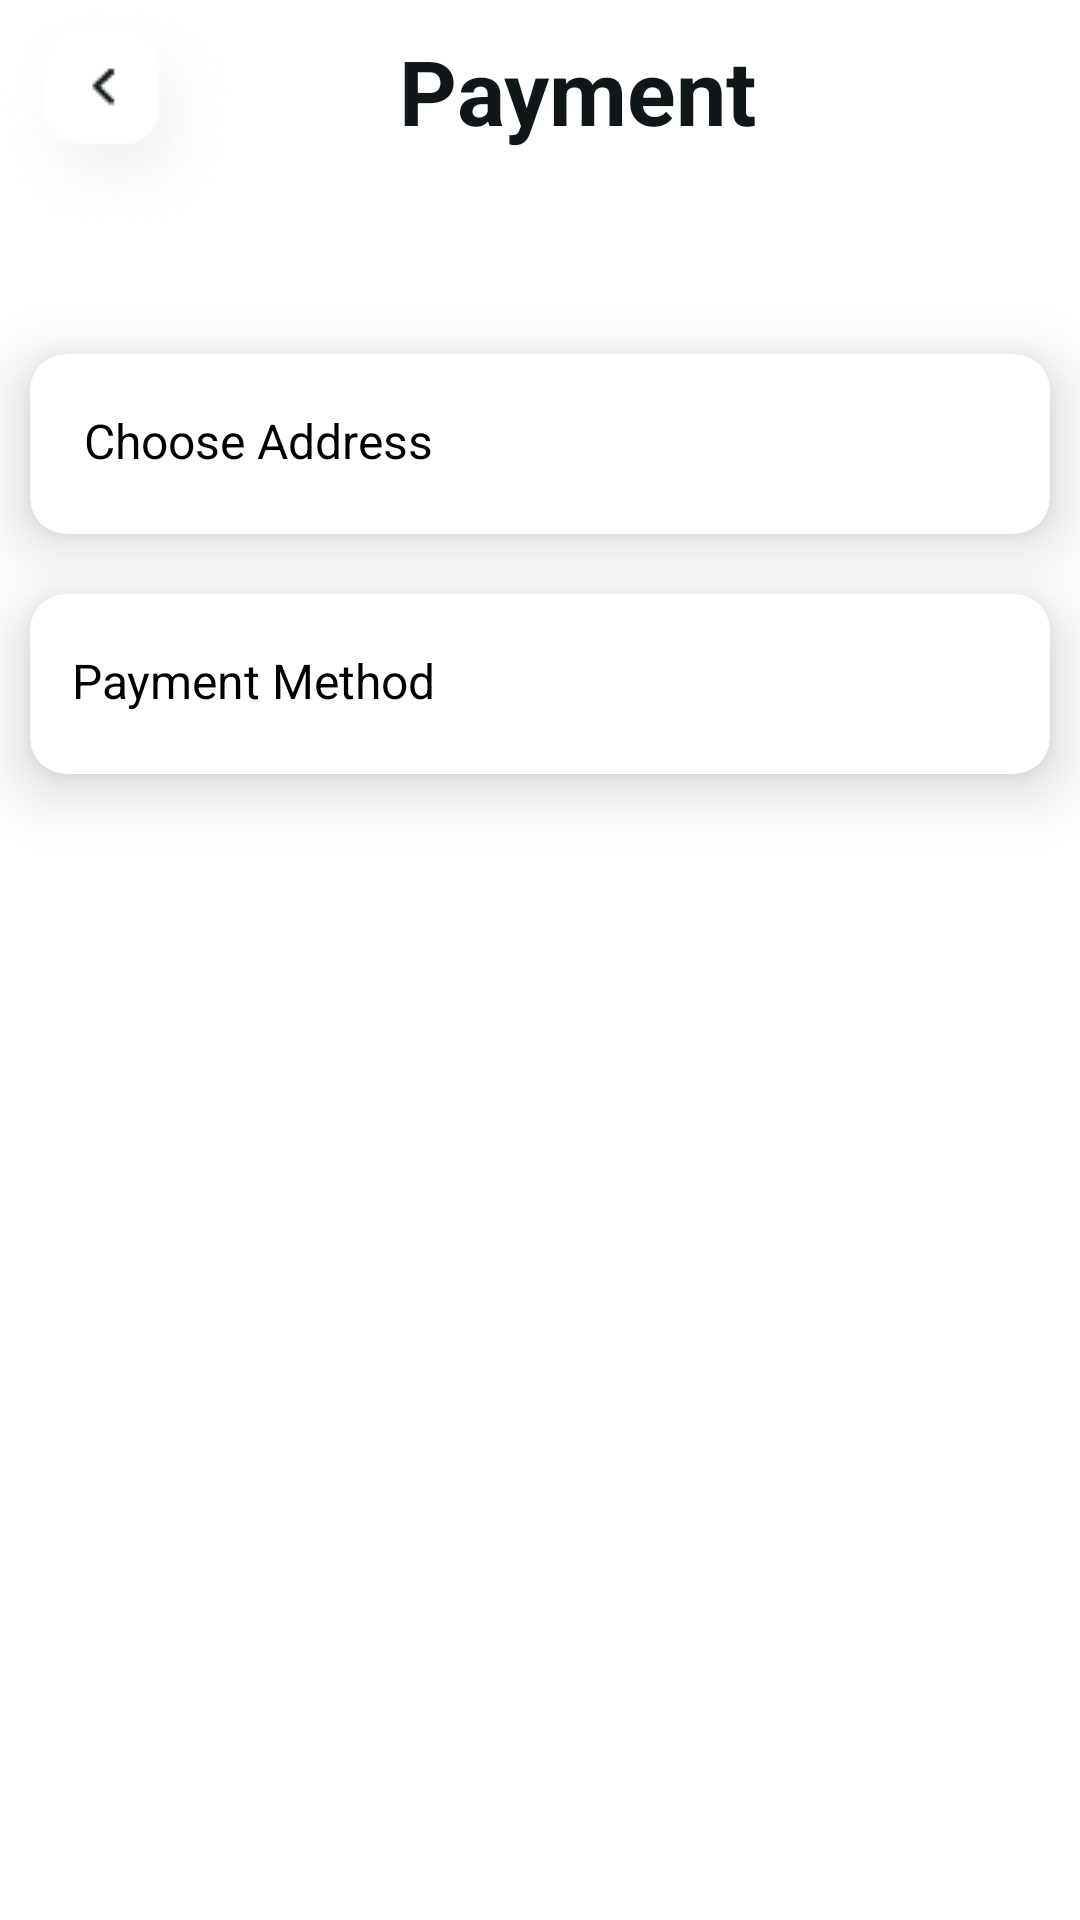

Locate icon controls on the screen. Image size 1080×1920, boxes as (x1, y1, x2, y2).
back: (92, 68, 115, 106)
